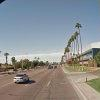Car: (11, 68, 31, 85)
